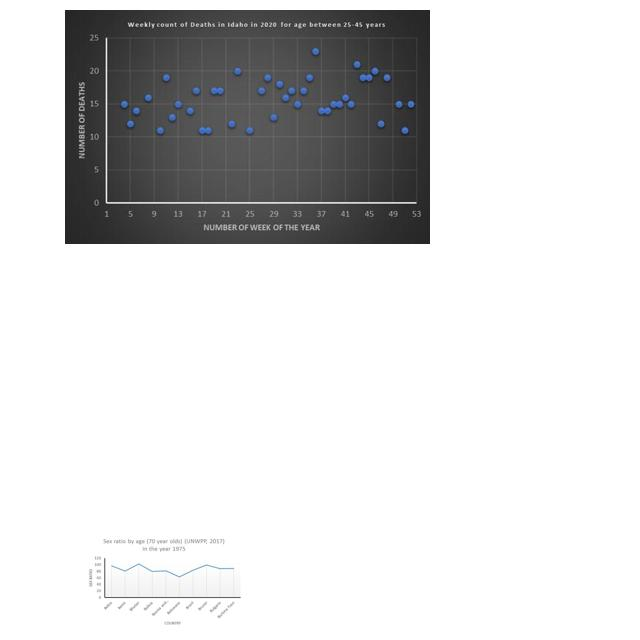Graph: (65, 10, 430, 244), (85, 536, 244, 629)
